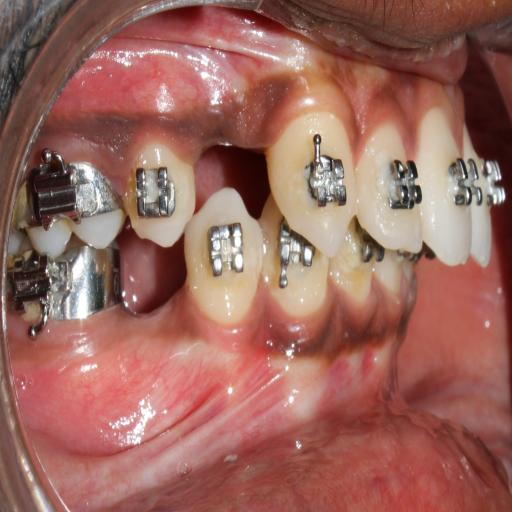correct_brace: (184, 189, 264, 327), (304, 128, 346, 222), (203, 222, 251, 298), (382, 143, 421, 221)
incorrect_brace: (356, 120, 424, 254)
